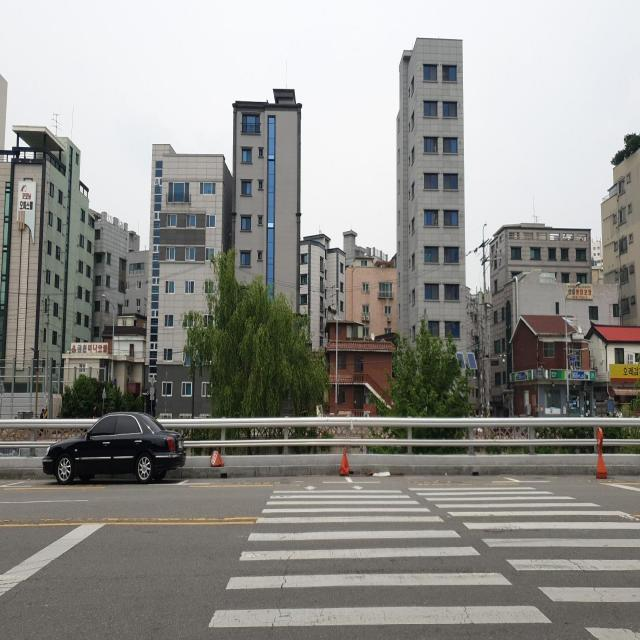횡단보도: (206, 482, 640, 640)
